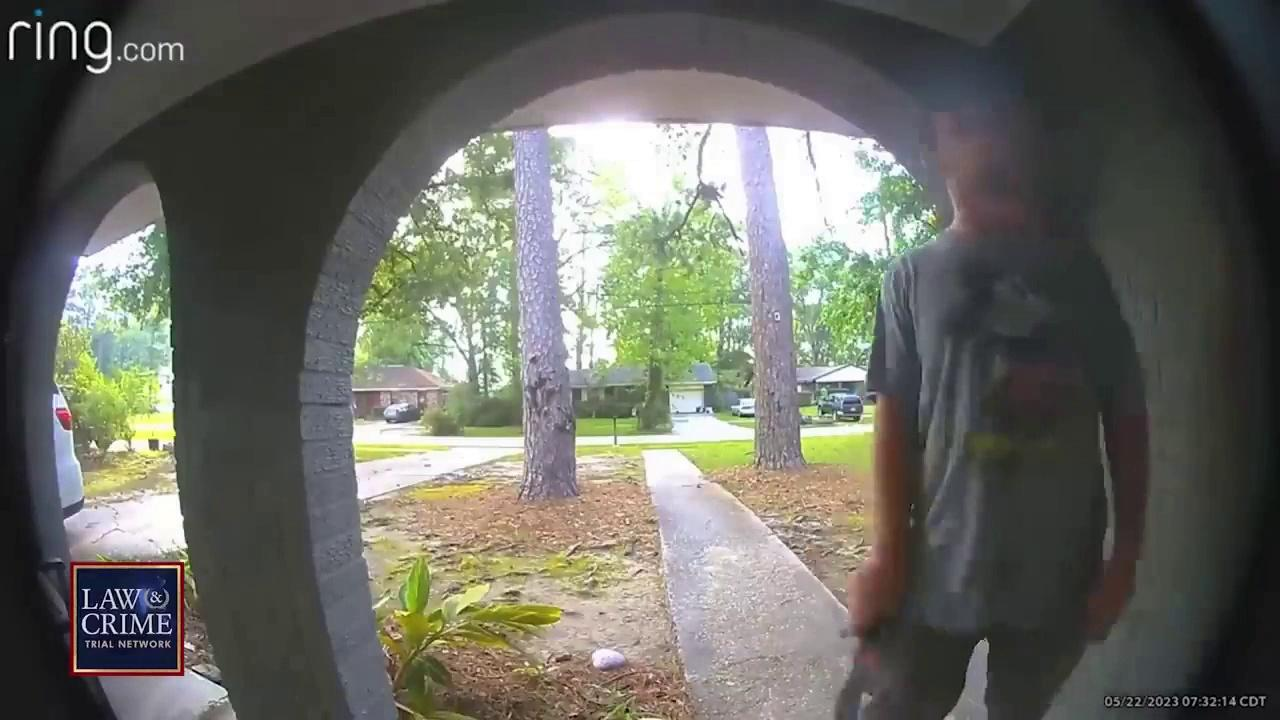suspicion: (848, 60, 1148, 720)
